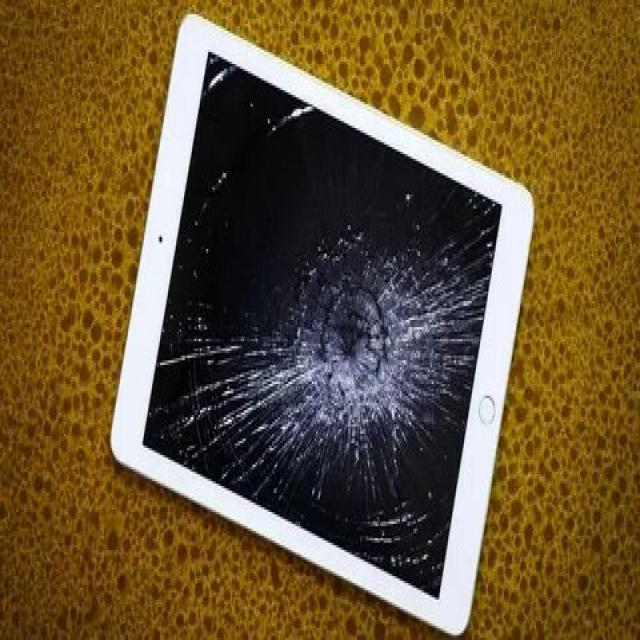Crack: (154, 224, 472, 613), (268, 161, 539, 395)
